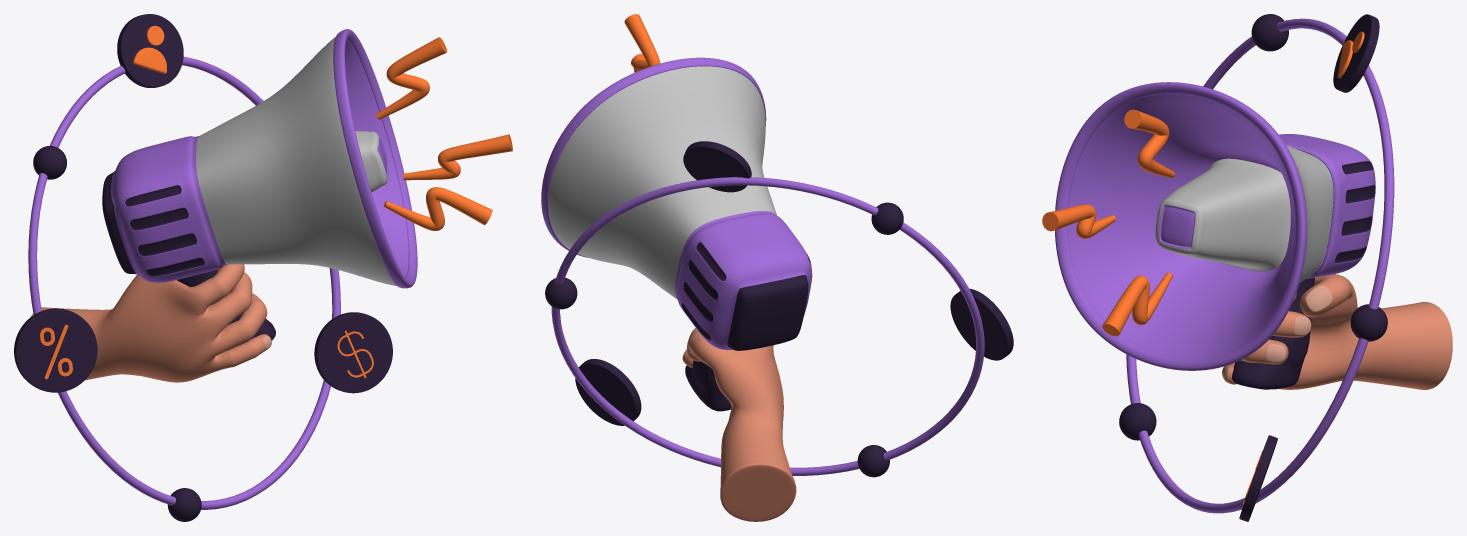
File: promotions-3d-animated-icon-8438072740.glb
3 renders of one model, left to right at view 1: azimuth 30°, elevation 25°; view 2: azimuth 150°, elevation 25°; view 3: azimuth 270°, elevation 25°, orthographic. The views are drawn at different scales.
Parts seen in each view (by area): view 1: Cube.006, Hand, Handle, NurbsCircle, Cylinder.006, Cylinder.002, Cylinder.004, NurbsPath, NurbsPath.002, NurbsPath.001, Sphere.001, Sphere.002; view 2: Cube.006, Handle, Hand, NurbsCircle, Cylinder.006, Cylinder.002, Cylinder.004, NurbsPath, Sphere.001, Sphere.002, Sphere; view 3: Cube.006, Hand, Handle, NurbsCircle, Cylinder.004, NurbsPath.002, NurbsPath, NurbsPath.001, Sphere, Cylinder.002, Sphere.002, Sphere.001.
Boxes of the visible parts, x1,y1,x2,y2 form: Cube.006: (196, 29, 417, 288); Hand: (31, 264, 271, 382); Handle: (102, 136, 275, 349); NurbsCircle: (28, 56, 340, 509); Cylinder.006: (14, 308, 97, 392); Cylinder.002: (314, 312, 392, 393); Cylinder.004: (117, 14, 183, 87); NurbsPath: (376, 37, 447, 119); NurbsPath.002: (383, 187, 492, 230); NurbsPath.001: (403, 134, 512, 180); Sphere.001: (33, 146, 66, 179); Sphere.002: (167, 488, 201, 521); Cube.006: (541, 57, 776, 299); Handle: (675, 211, 812, 411); Hand: (682, 328, 796, 521); NurbsCircle: (551, 177, 984, 475); Cylinder.006: (950, 288, 1013, 360); Cylinder.002: (575, 359, 641, 425); Cylinder.004: (683, 141, 751, 192); NurbsPath: (624, 14, 660, 72); Sphere.001: (871, 202, 903, 234); Sphere.002: (857, 445, 889, 477); Sphere: (545, 277, 577, 309); Cube.006: (1055, 82, 1333, 370); Hand: (1222, 274, 1452, 389); Handle: (1231, 134, 1375, 389); NurbsCircle: (1126, 18, 1394, 513); Cylinder.004: (1333, 14, 1379, 92); NurbsPath.002: (1102, 272, 1172, 336); NurbsPath: (1124, 109, 1174, 177); NurbsPath.001: (1042, 204, 1115, 238); Sphere: (1350, 304, 1387, 341); Cylinder.002: (1239, 435, 1277, 521); Sphere.002: (1119, 403, 1156, 440); Sphere.001: (1251, 14, 1288, 51).
Size of the model in its own units: 1.79 by 1.62 by 1.27.
